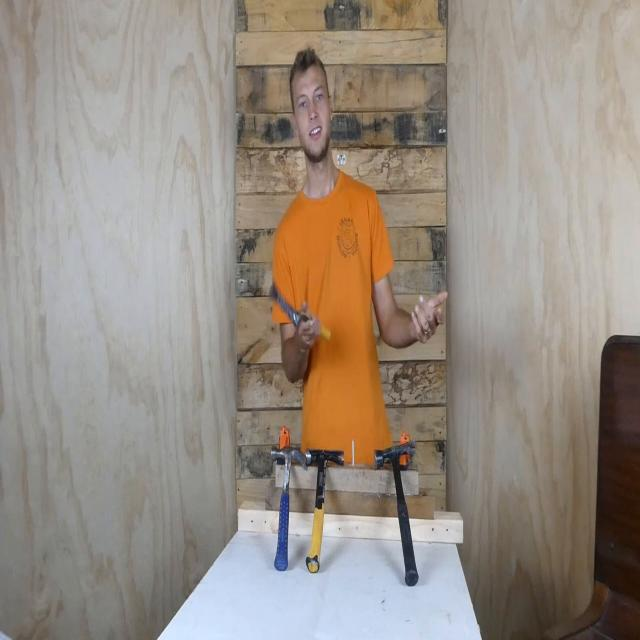hammer: (372, 438, 422, 590), (269, 433, 309, 583), (305, 443, 346, 582)
